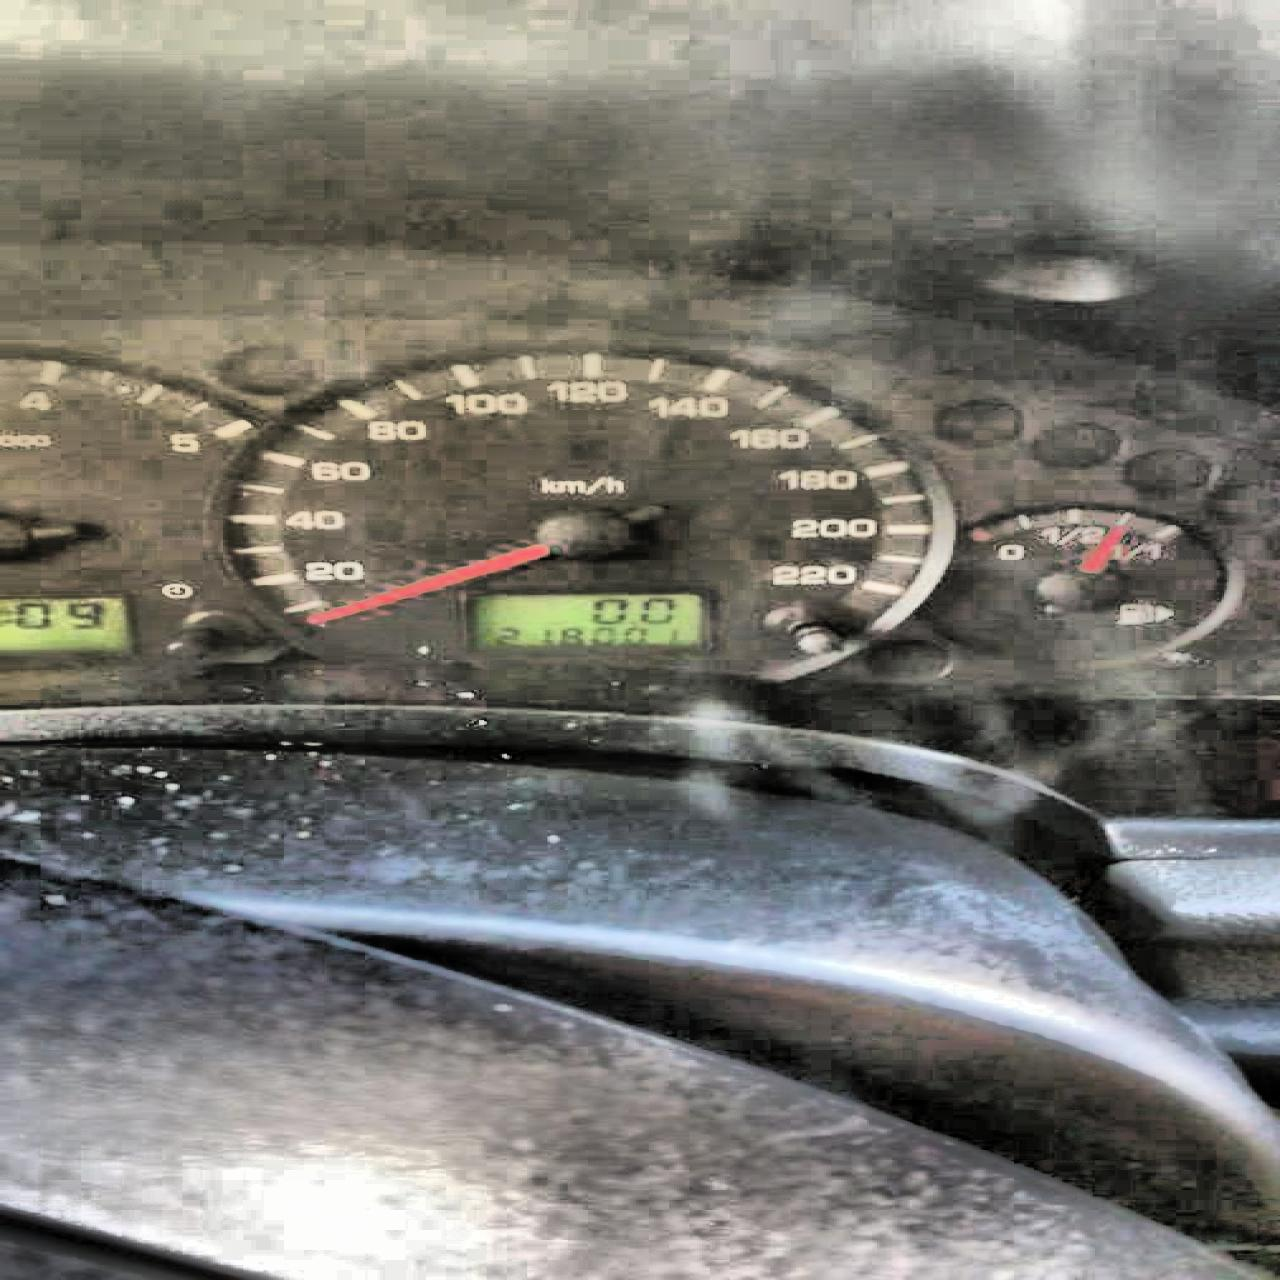-: (626, 617, 636, 625)
0: (639, 595, 674, 624), (591, 597, 626, 624), (621, 625, 649, 645), (591, 625, 615, 645)
1: (663, 627, 679, 647), (537, 626, 550, 647)
2: (491, 625, 519, 645)
8: (558, 625, 584, 647)
odometer: (459, 588, 715, 652)
